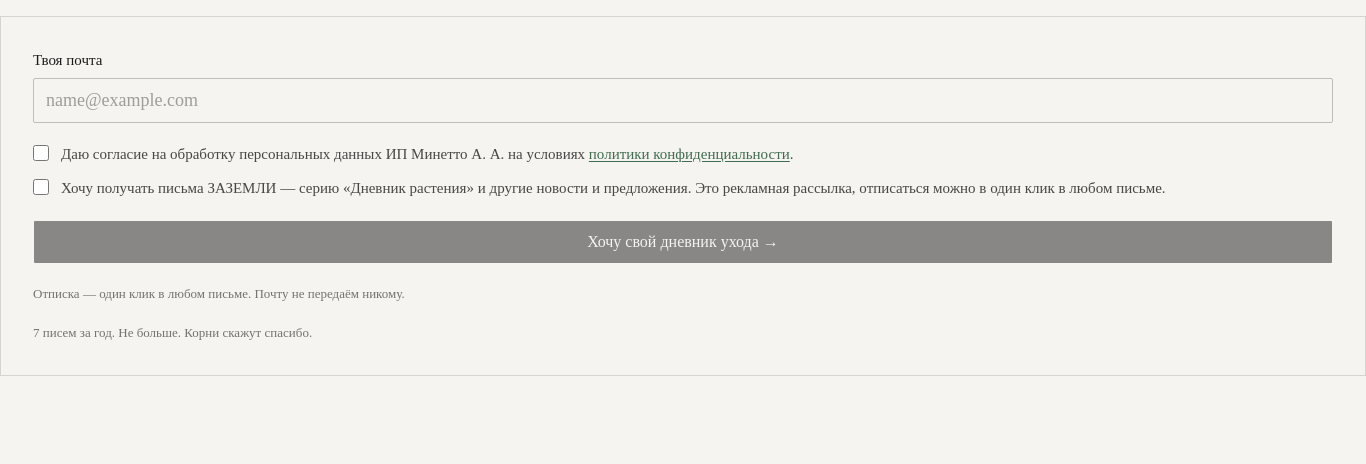
Test: SignupForm — состояния отправки и confirmation (task 2.3) › ошибка отправки → микрокопи из diary.states, форма остаётся для повтора
Type "me@example.com" into the field labelled "Твоя почта".
click(683, 100); type("me@example.com")  # box top-left (33, 78), bottom-right (1333, 122)
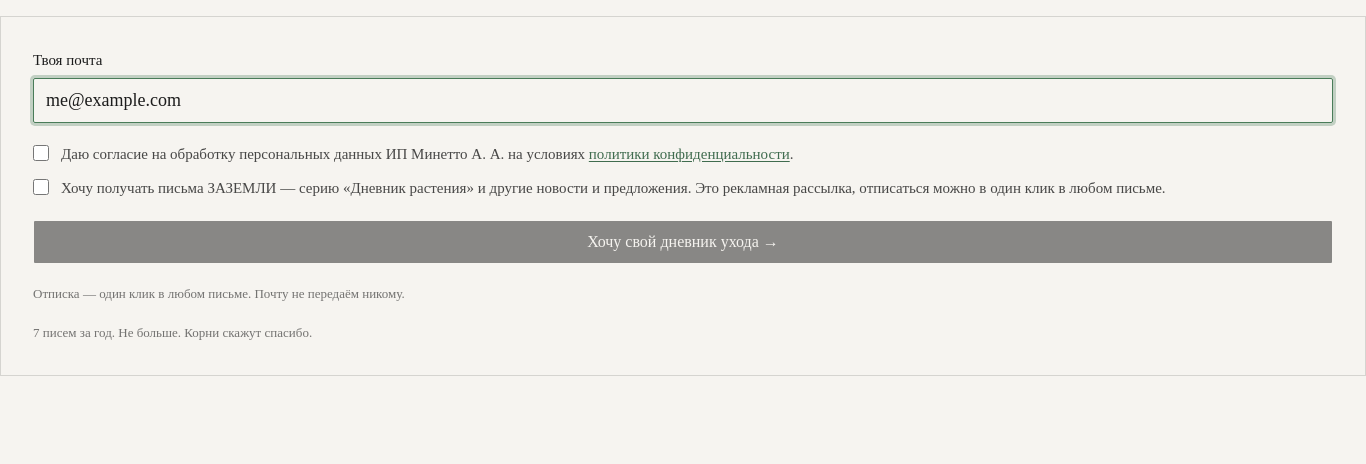
Click the 1st checkbox.
click(41, 152)  # box top-left (33, 144), bottom-right (49, 160)
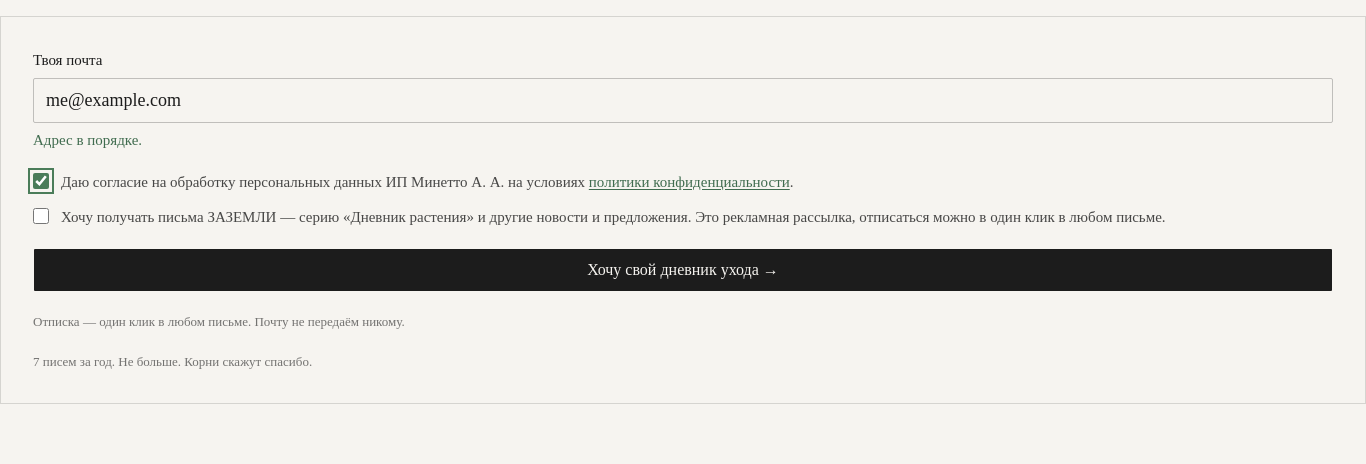
Click the 2nd checkbox.
click(41, 216)  # box top-left (33, 208), bottom-right (49, 224)
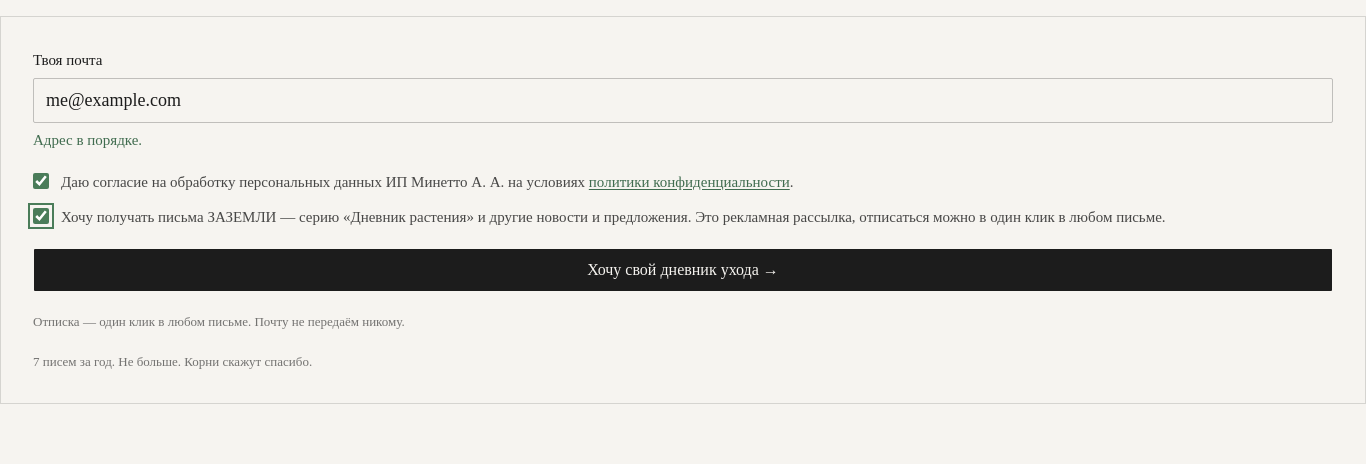
Click the button "Хочу свой дневник ухода →".
click(683, 270)  # box top-left (33, 248), bottom-right (1333, 292)
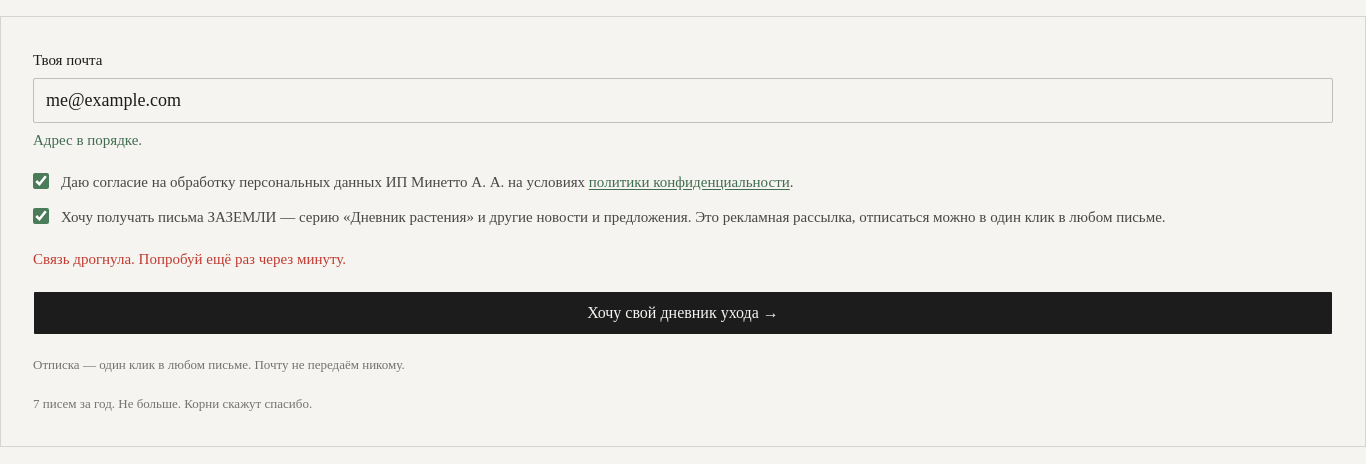
Now the text "Связь дрогнула. Попробуй ещё раз через минуту." is shown, box top-left (33, 251), bottom-right (346, 267)
